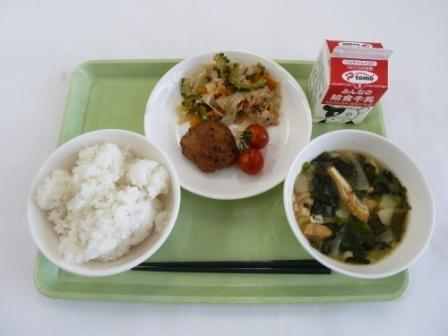Cherry tomatoes: (236, 122, 270, 176)
Milk: (311, 39, 393, 128)
Rice: (37, 130, 171, 270)
Soups: (286, 132, 430, 266)
cutlet: (177, 122, 243, 177)
vegetable based cooked food: (176, 55, 283, 120)
